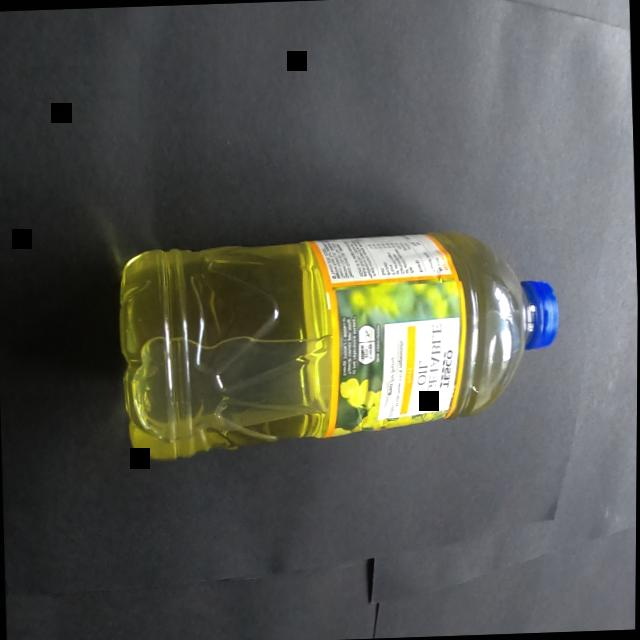Vegetableoil: (105, 200, 577, 490)
